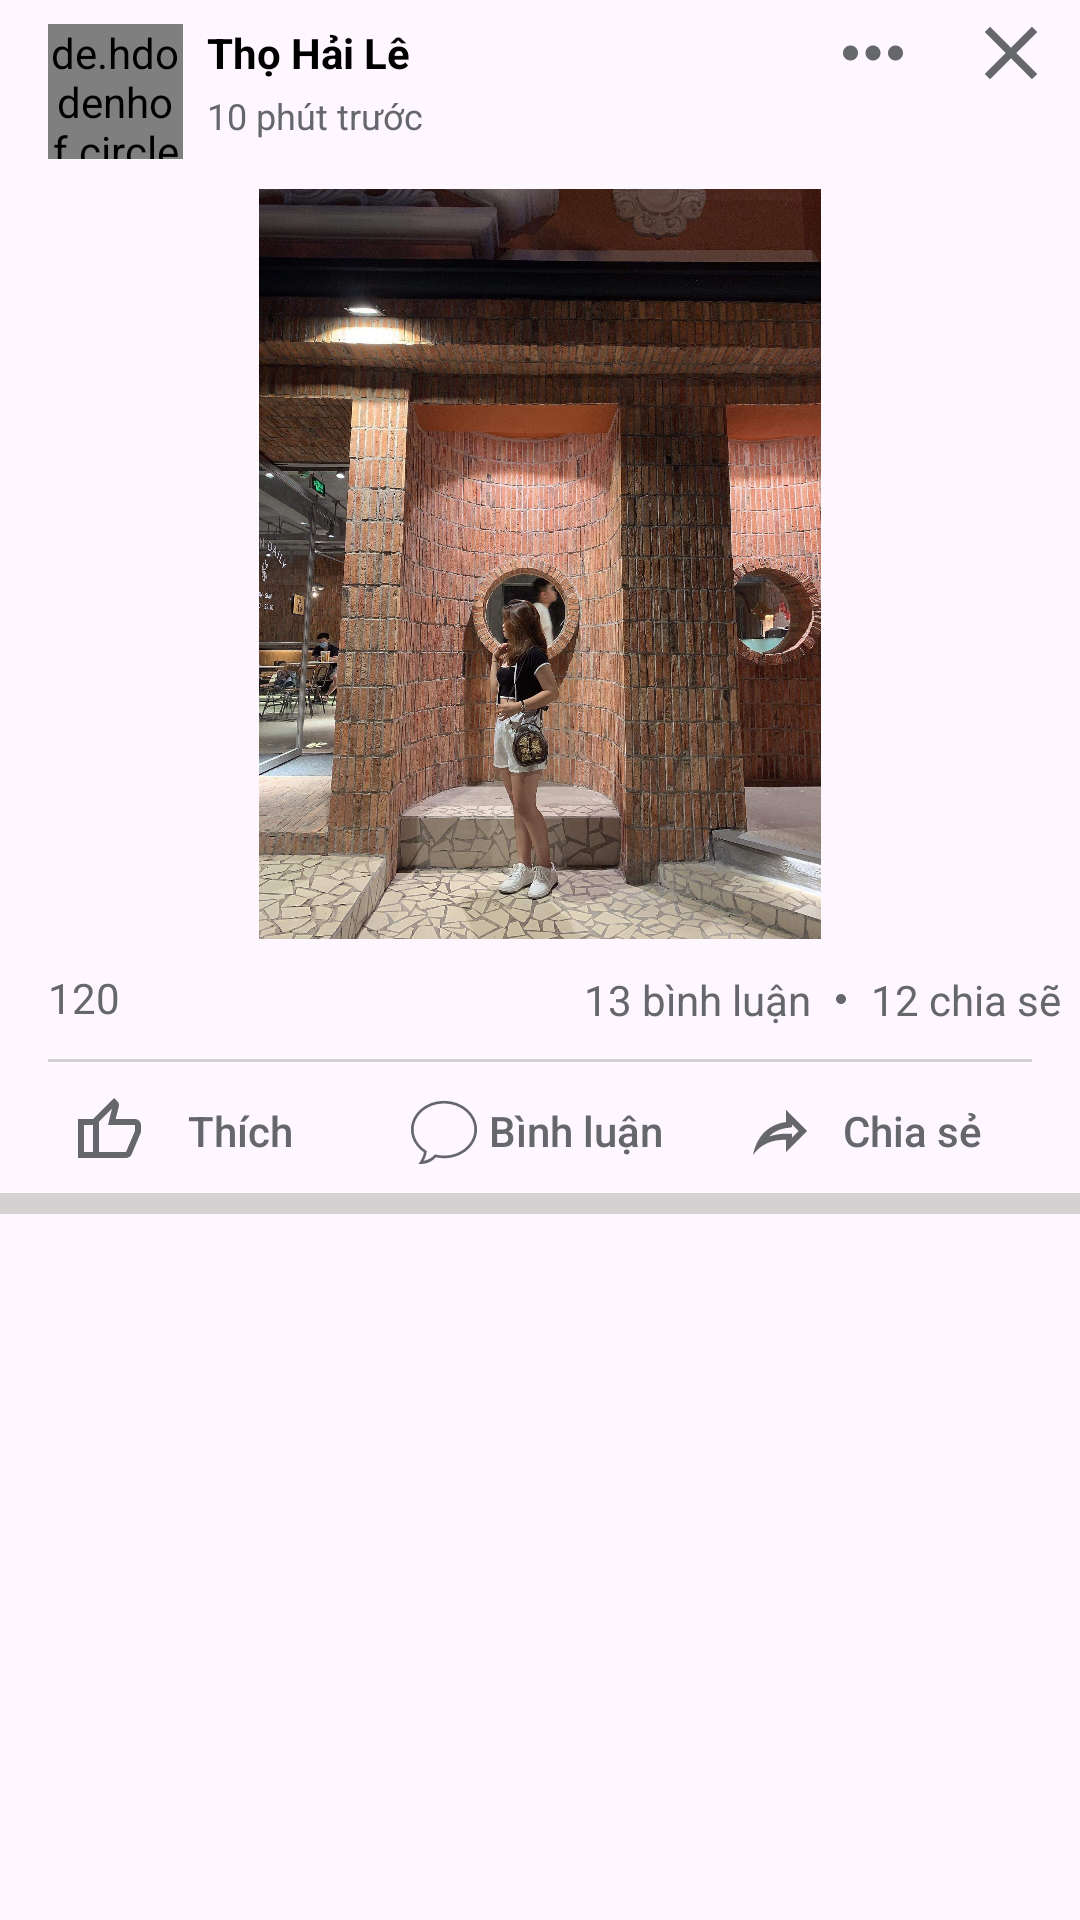

Where to tap for icons on this 1080w x 1920h app screen, as (x,y):
close: (1011,53)
more dashboard: (873,53)
